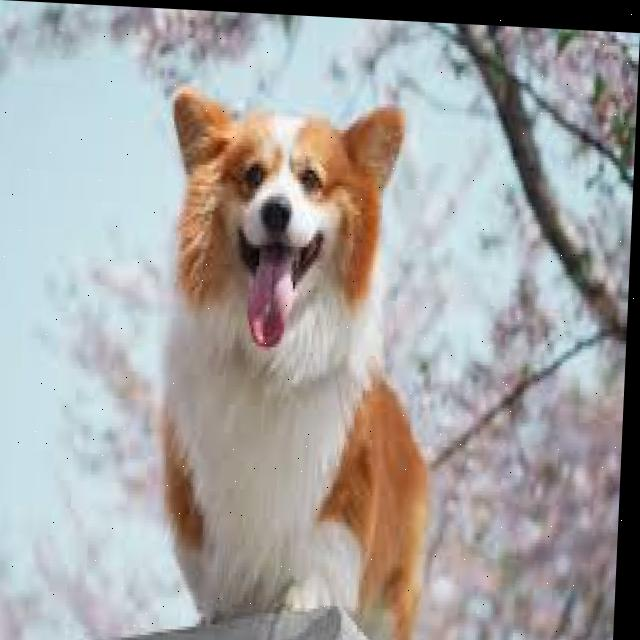CORGI: (132, 70, 462, 640)
